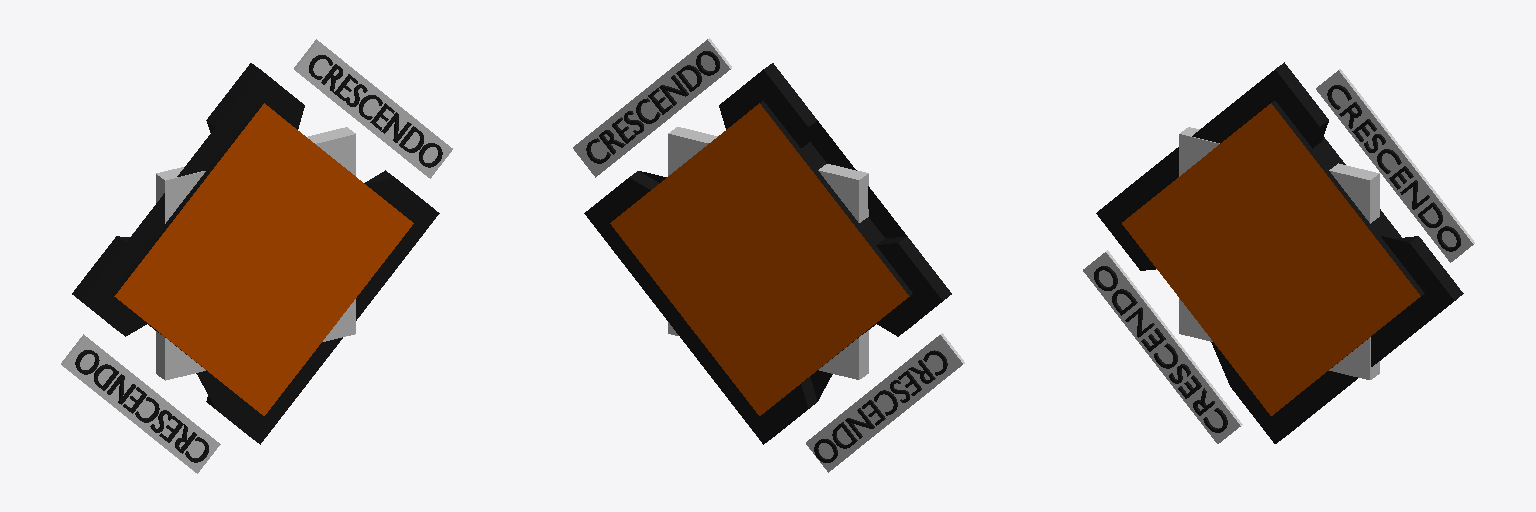
The model's file is crescendo_sigil.obj.
The picture shows the model from 3 angles: view 1: azimuth 30°, elevation 25°; view 2: azimuth 150°, elevation 25°; view 3: azimuth 330°, elevation 25°; orthographic projection.
Parts seen in each view (by area): view 1: Plane.010; view 2: Plane.010; view 3: Plane.010.
Boxes of the visible parts, x1,y1,x2,y2 form: Plane.010: [61, 39, 452, 473]; Plane.010: [573, 38, 964, 472]; Plane.010: [1083, 62, 1474, 443].
Size of the model in its own units: 2.97 by 2.93 by 0.2248.